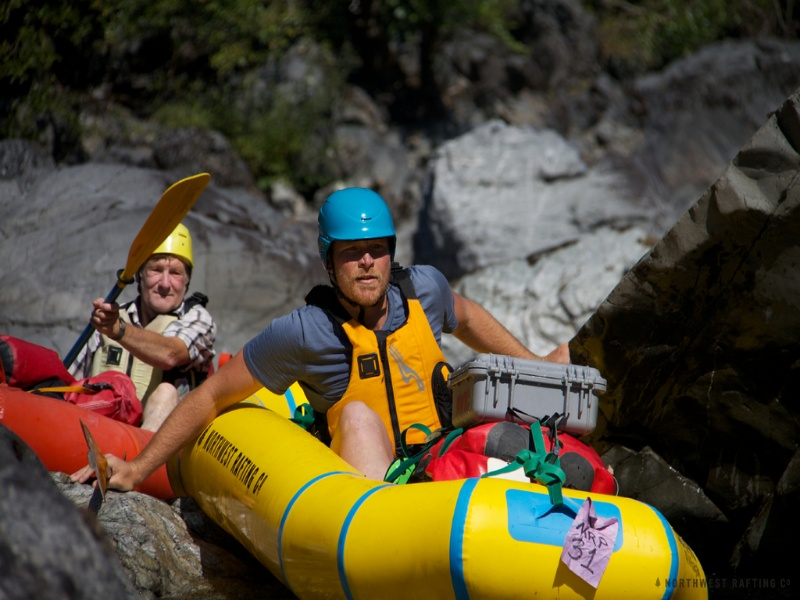Baret: (319, 188, 396, 244)
